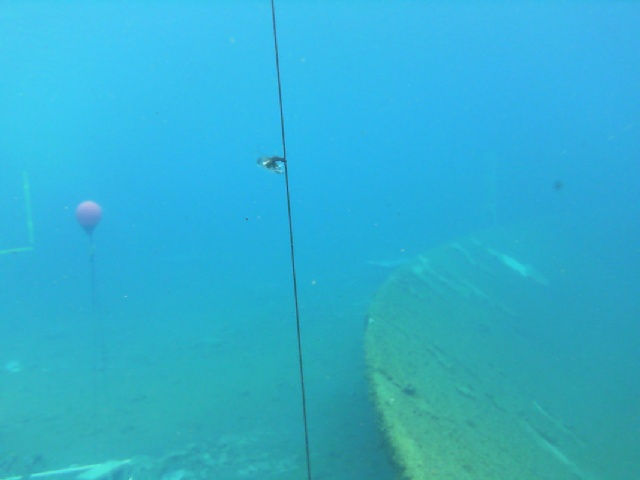buoy_red: (74, 198, 104, 239)
